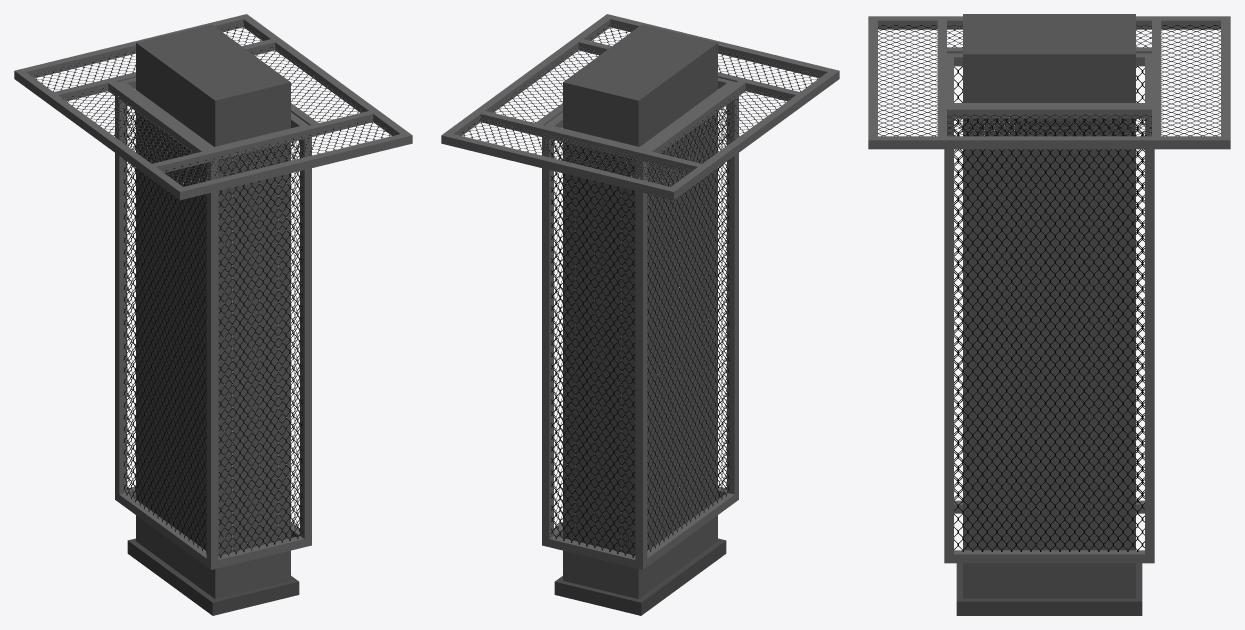
File: Pillar 1.fbx
3 views of the same model, side by side, from view 1: azimuth 30°, elevation 25°; view 2: azimuth 150°, elevation 25°; view 3: azimuth 270°, elevation 25° (orthographic). The views are drawn at different scales.
Visible parts, largest first — view 1: Cube.002, Cube.005, Cube.009, Plane.005, Plane.006, Plane.007, Plane.008, Cube.003; view 2: Cube.002, Cube.005, Cube.009, Plane.005, Plane.006, Plane.007, Plane.008, Cube.003; view 3: Cube.002, Plane.005, Cube.009, Cube.005, Plane.007, Cube.003, Plane.008.
Part boxes in pixels (x1,y1,x2,y2): Cube.002: (136, 24, 290, 599); Cube.005: (115, 77, 311, 569); Cube.009: (14, 14, 412, 200); Plane.005: (123, 104, 299, 553); Plane.006: (127, 108, 302, 557); Plane.007: (31, 24, 392, 186); Plane.008: (62, 47, 363, 162); Cube.003: (127, 538, 299, 615); Cube.002: (563, 24, 717, 599); Cube.005: (542, 77, 738, 569); Cube.009: (441, 14, 839, 200); Plane.005: (554, 106, 730, 551); Plane.006: (551, 107, 726, 557); Plane.007: (461, 24, 822, 186); Plane.008: (492, 47, 790, 163); Cube.003: (554, 538, 726, 615); Cube.002: (963, 14, 1135, 598); Plane.005: (954, 66, 1144, 551); Cube.009: (868, 16, 1230, 149); Cube.005: (944, 53, 1154, 563); Plane.007: (878, 25, 1220, 136); Cube.003: (956, 563, 1142, 615); Plane.008: (947, 25, 1151, 136).
Bounding box in the file's own units: 448 × 942 × 553.
